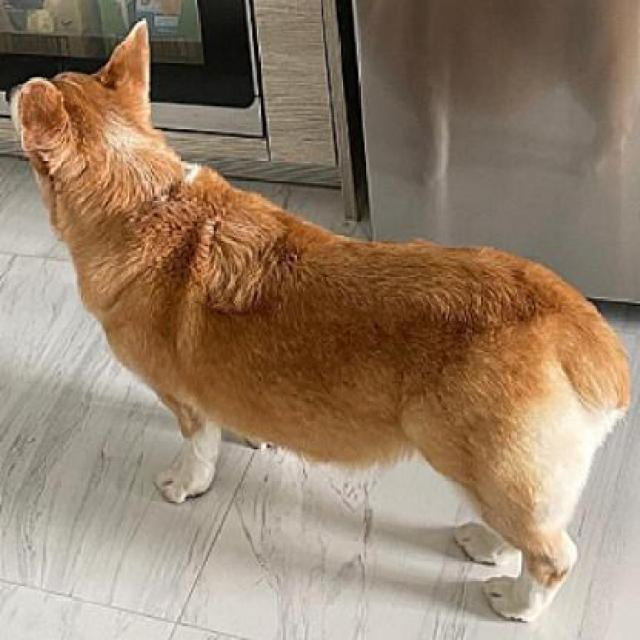Dog: (0, 15, 638, 638)
